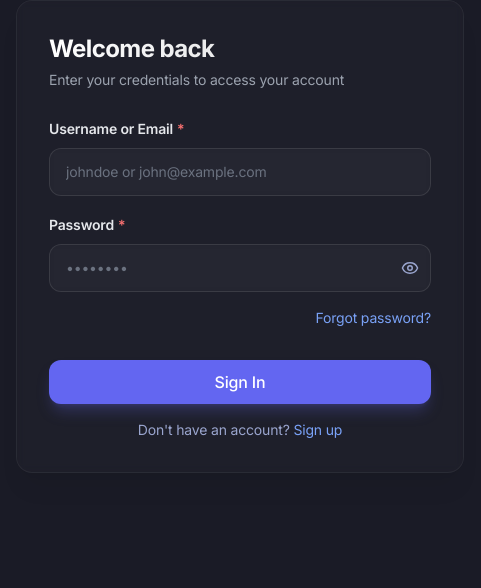
Scenario: Simple Integration Tests › Authentication Integration › should handle form errors properly
Type "wronguser" into the field with placeholder "johndoe or john@example.com" at [240, 172], box top-left (49, 148), bottom-right (431, 196)
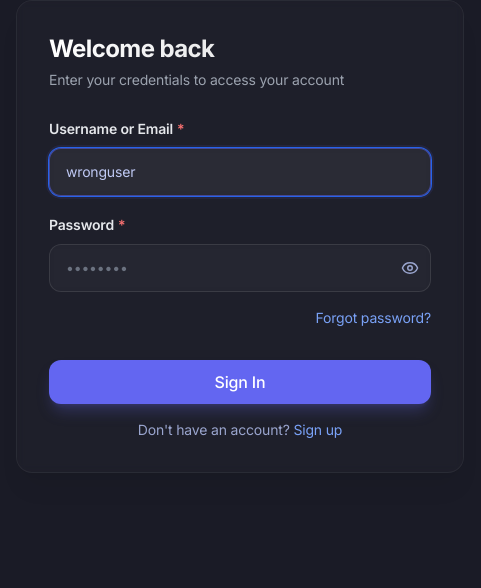
Type "wrongpass" into the password field with placeholder "••••••••" at [240, 268], box top-left (49, 244), bottom-right (431, 292)
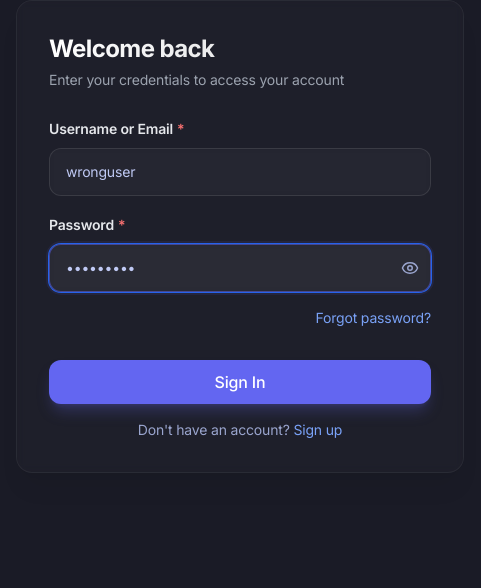
Click the button "Sign In" at [240, 382], box top-left (49, 360), bottom-right (431, 404)
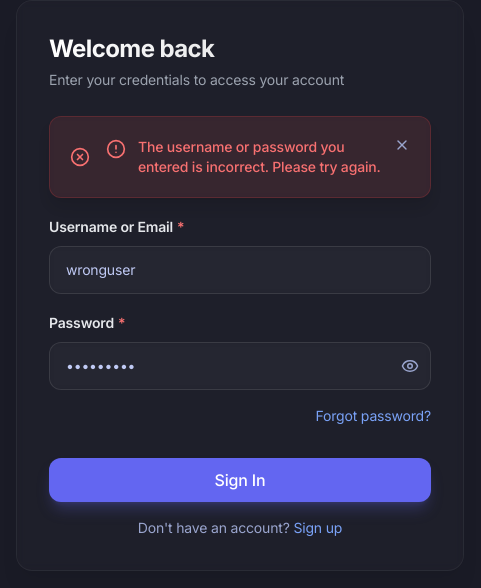
Expected: the text "The username or password you entered is incorrect" is shown, top-left (138, 138), bottom-right (381, 175)
